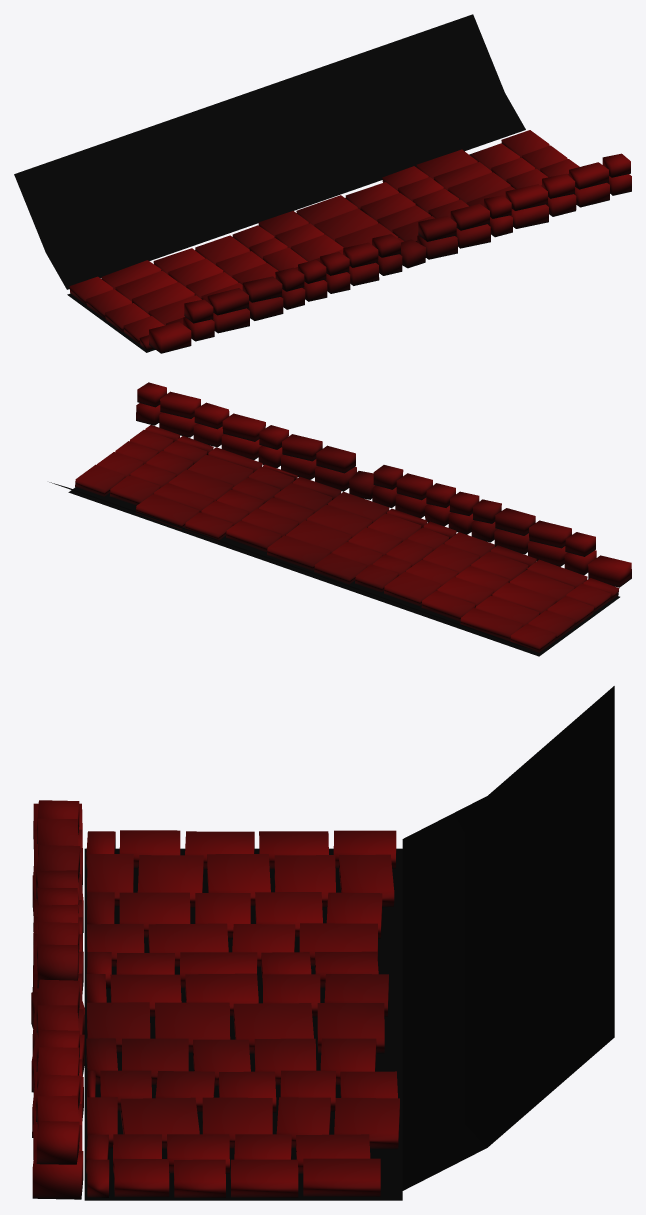
Rendered from keth_road_switchback.glb.
3 views of the same model, one above another, from view 1: azimuth 30°, elevation 25°; view 2: azimuth 150°, elevation 25°; view 3: azimuth 270°, elevation 25° (orthographic). The views are drawn at different scales.
Parts seen in each view (by area): view 1: keth_road_switchback; view 2: keth_road_switchback; view 3: keth_road_switchback.
Boxes of the visible parts, x1,y1,x2,y2 form: keth_road_switchback: [14, 14, 631, 353]; keth_road_switchback: [49, 382, 631, 656]; keth_road_switchback: [31, 686, 614, 1200].
Size of what is drawn, in the model's own units: 10.31 by 2.7 by 5.5.
